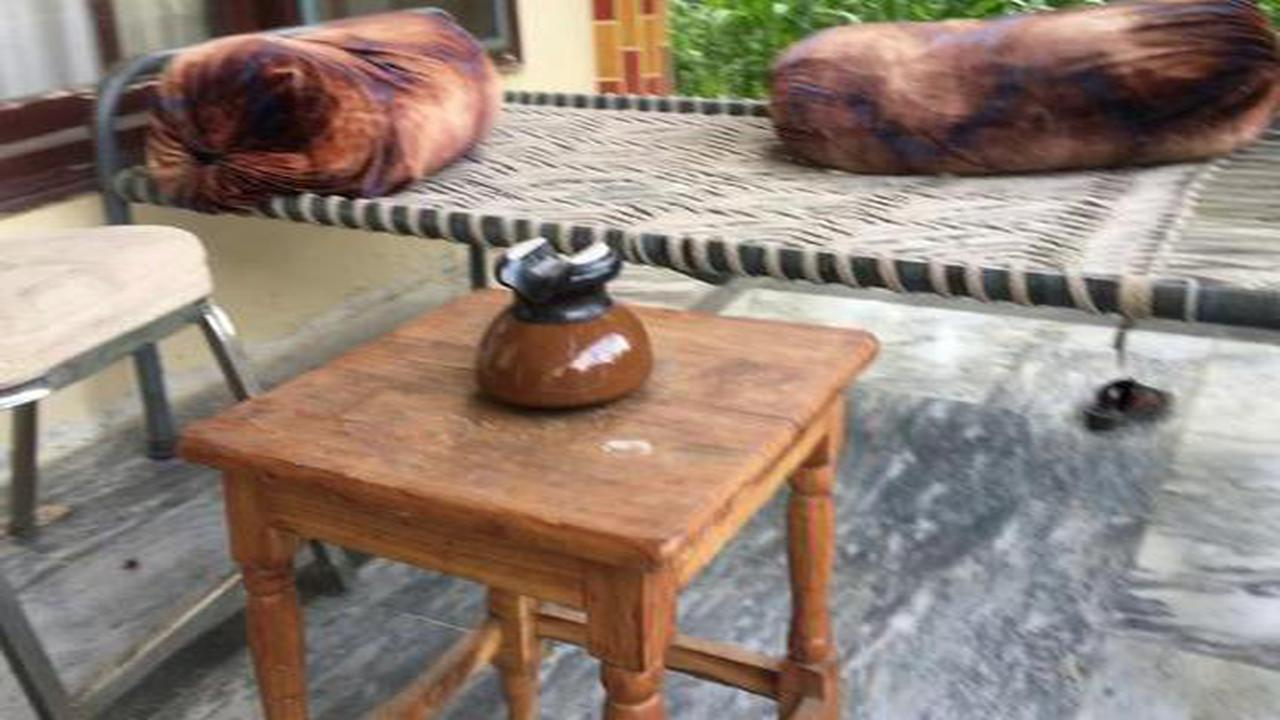insulator_pin: (456, 226, 668, 425)
